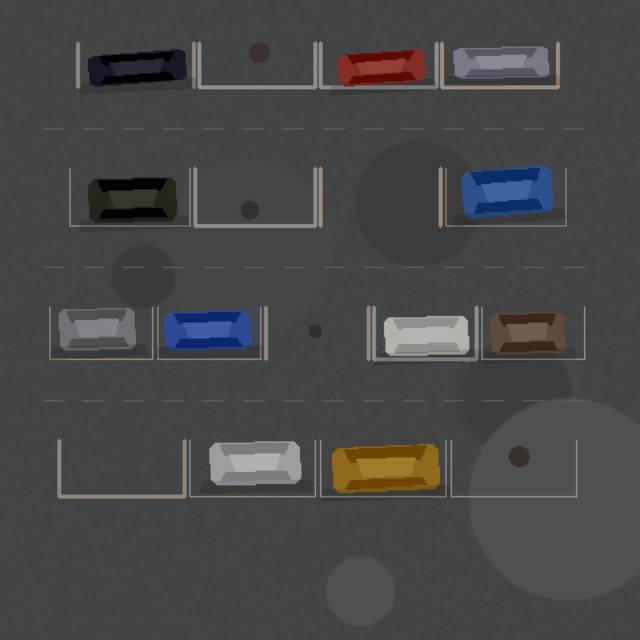space-empty: (59, 440, 184, 496), (451, 440, 576, 496), (195, 168, 315, 225), (320, 168, 440, 225), (265, 307, 368, 359), (199, 43, 315, 87)
space-occupied: (189, 440, 315, 496), (320, 440, 445, 496), (69, 168, 189, 225), (445, 168, 565, 225), (49, 307, 152, 359), (157, 307, 260, 359), (373, 307, 476, 359), (481, 307, 584, 359), (77, 43, 193, 87), (320, 43, 436, 87), (441, 43, 557, 87)
